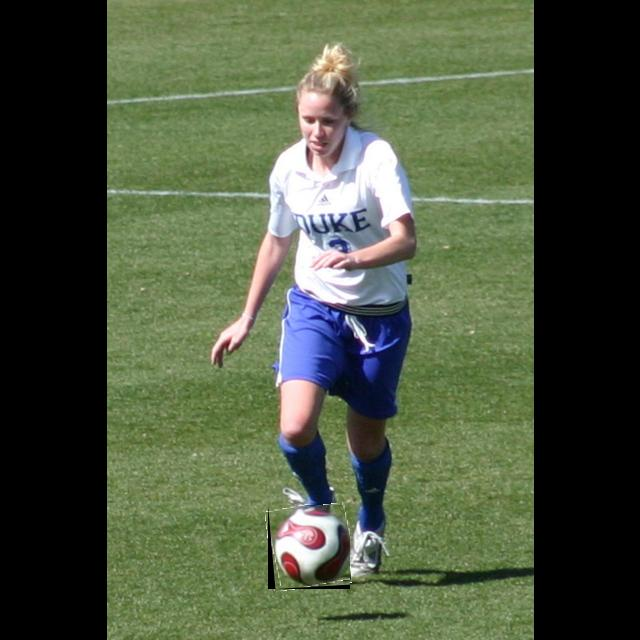Football: (268, 505, 350, 589)
